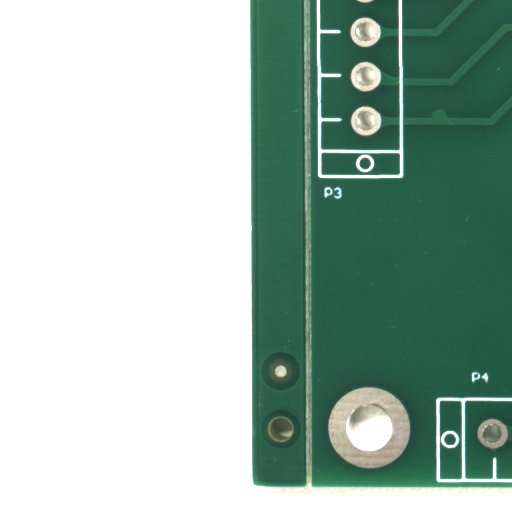Spur: (439, 113, 455, 124)
